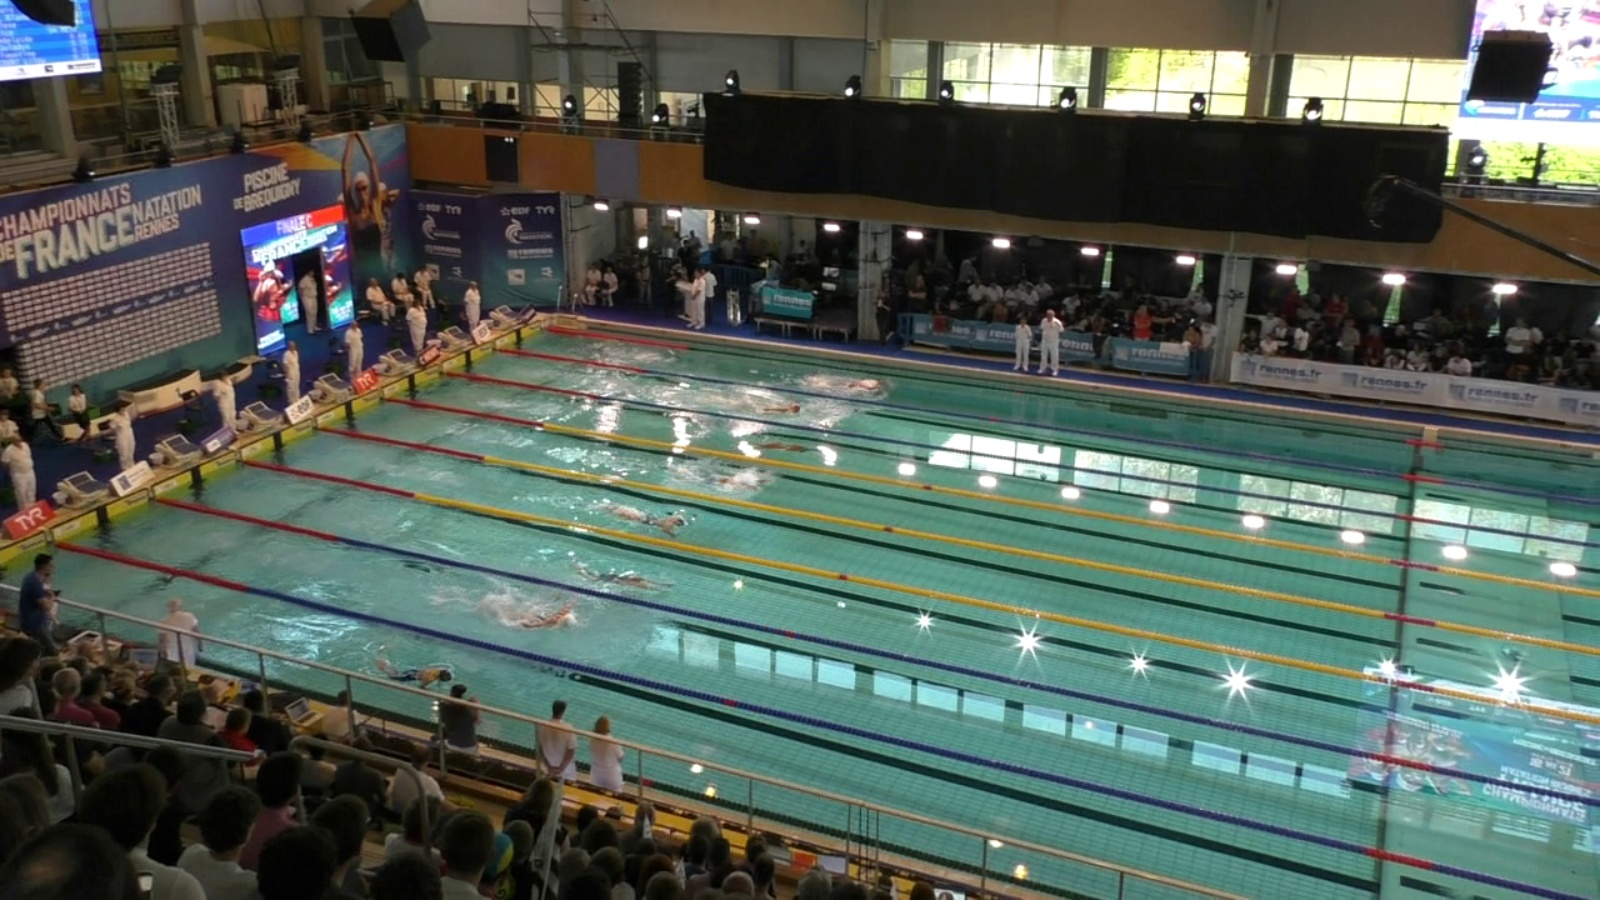swimmerw: (574, 563, 678, 595), (374, 659, 454, 698), (608, 503, 687, 541), (503, 602, 575, 627), (825, 376, 890, 397), (738, 397, 803, 414), (704, 474, 763, 491), (746, 442, 823, 454)
